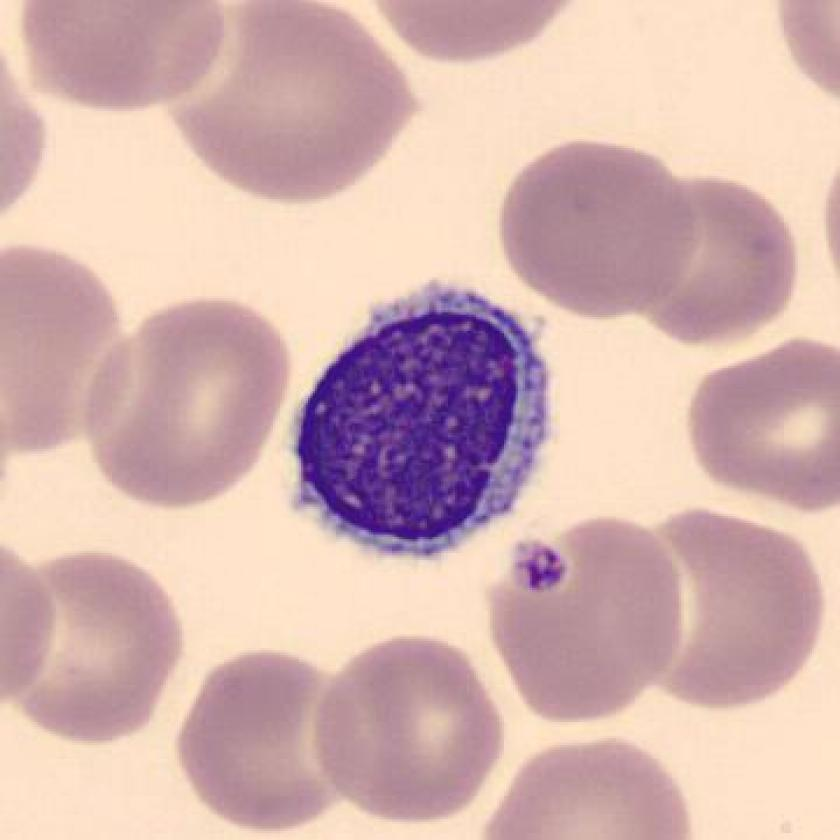lymphocyte: (267, 272, 582, 582)
platelets: (506, 528, 572, 598)
